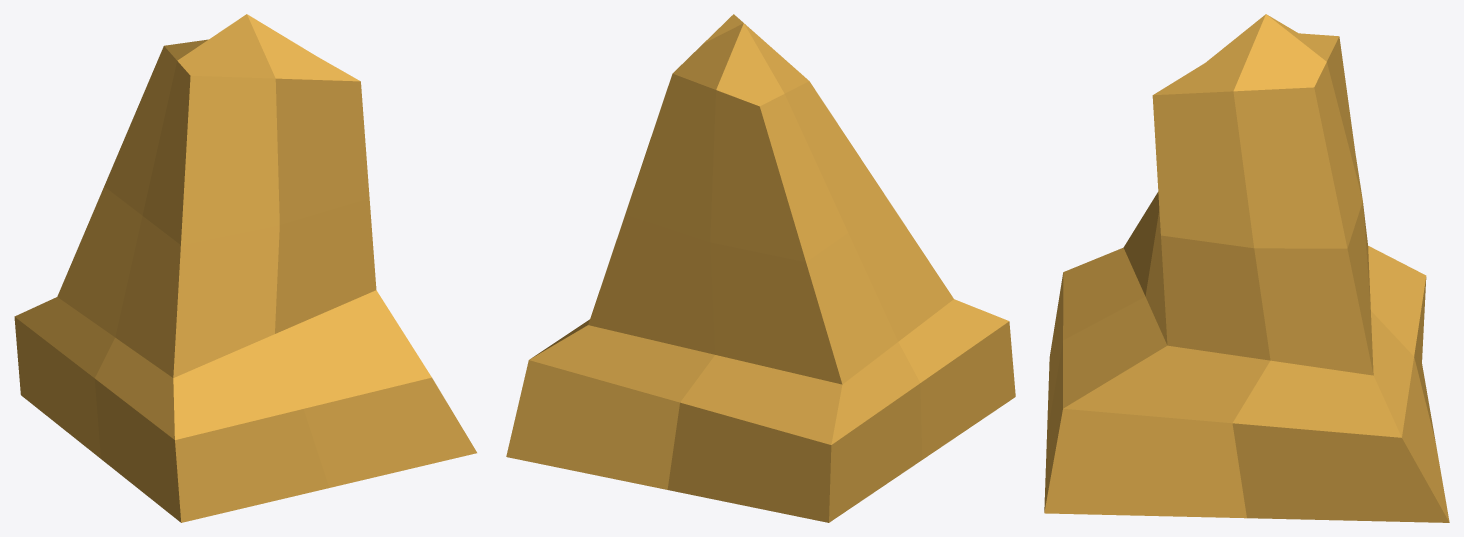
The model's file is roccia_208.fbx.
The picture shows the model from 3 angles, left to right: view 1: azimuth 30°, elevation 25°; view 2: azimuth 150°, elevation 25°; view 3: azimuth 270°, elevation 25°; orthographic projection. The views are drawn at different scales.
Parts seen in each view (by area): view 1: roccia_208; view 2: roccia_208; view 3: roccia_208.
Boxes of the visible parts, x1,y1,x2,y2 form: roccia_208: [14, 14, 476, 522]; roccia_208: [506, 14, 1015, 522]; roccia_208: [1044, 14, 1449, 522].
Bounding box in the file's own units: 54.66 × 66.33 × 56.54.
